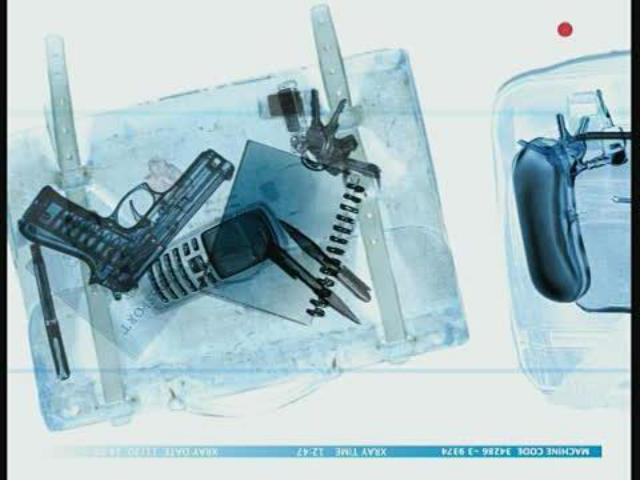Gun: (18, 147, 236, 295)
